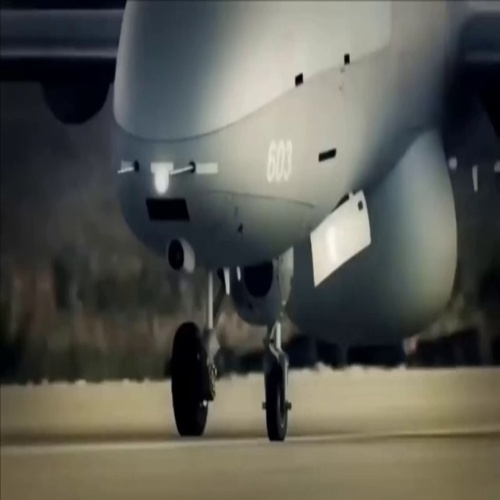uav: (7, 3, 467, 441)
